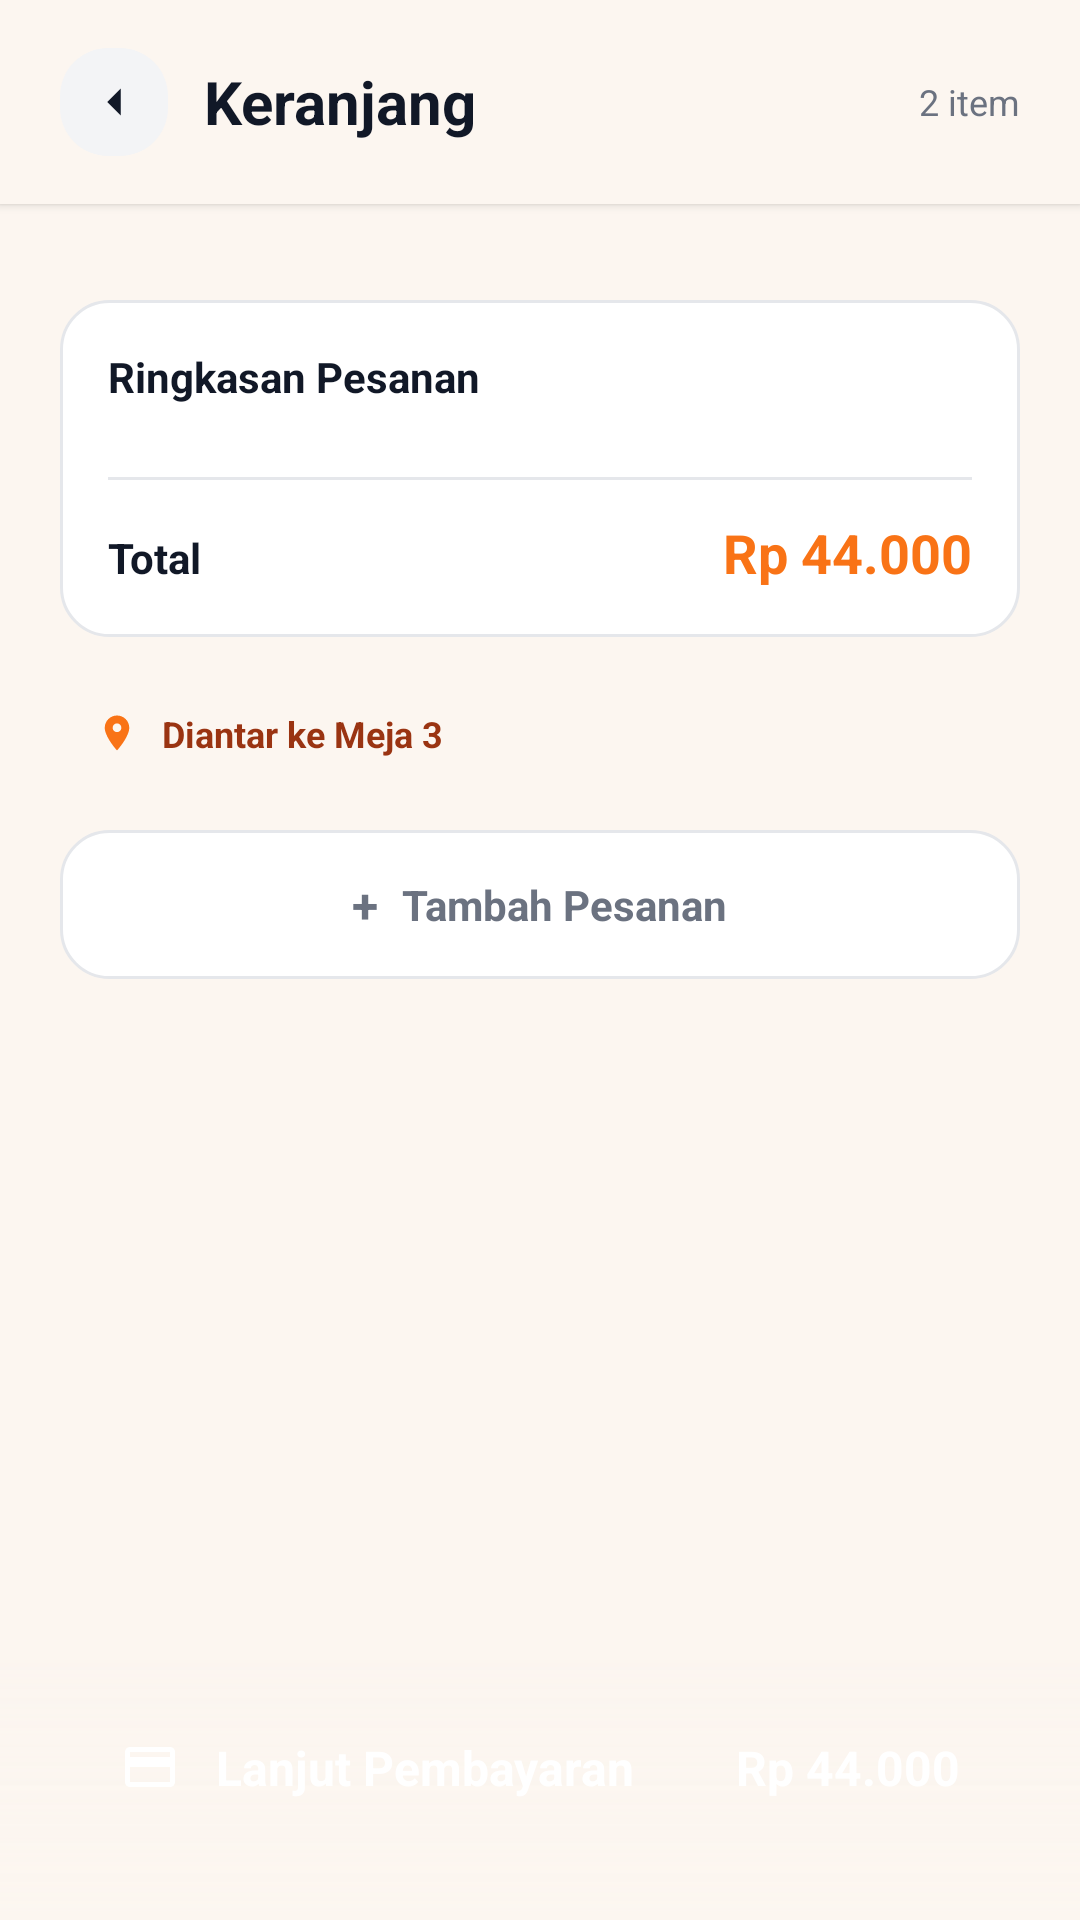

Where to tap for icons on this 1080 × 1920 app screen, as [x,y]:
arrow left: [114,102]
map pin: [117,732]
